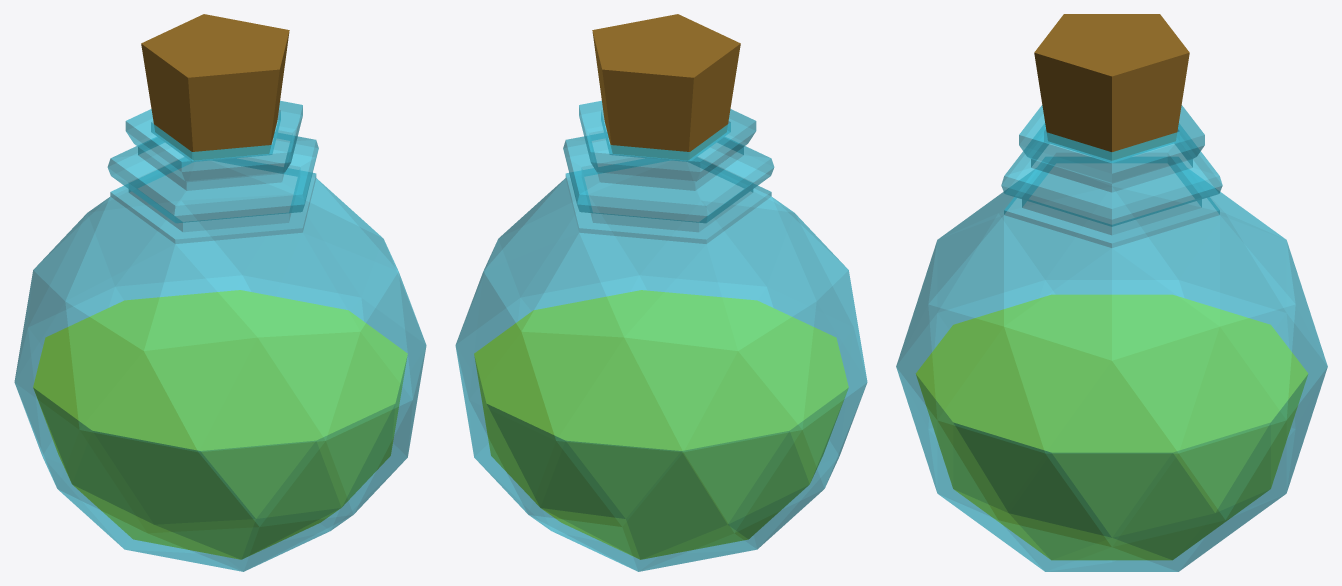
File: Armor_Potion.glb
3 renders of one model, left to right at view 1: azimuth 30°, elevation 25°; view 2: azimuth 150°, elevation 25°; view 3: azimuth 270°, elevation 25°, orthographic. The views are drawn at different scales.
Visible parts, largest first — view 1: Icosphere; view 2: Icosphere; view 3: Icosphere.
Boxes of the visible parts, x1=… form: Icosphere: x1=14, y1=14, x2=426, y2=571; Icosphere: x1=455, y1=14, x2=867, y2=571; Icosphere: x1=896, y1=14, x2=1327, y2=571.
Size of the model in its own units: 0.1878 by 0.2627 by 0.1975.
